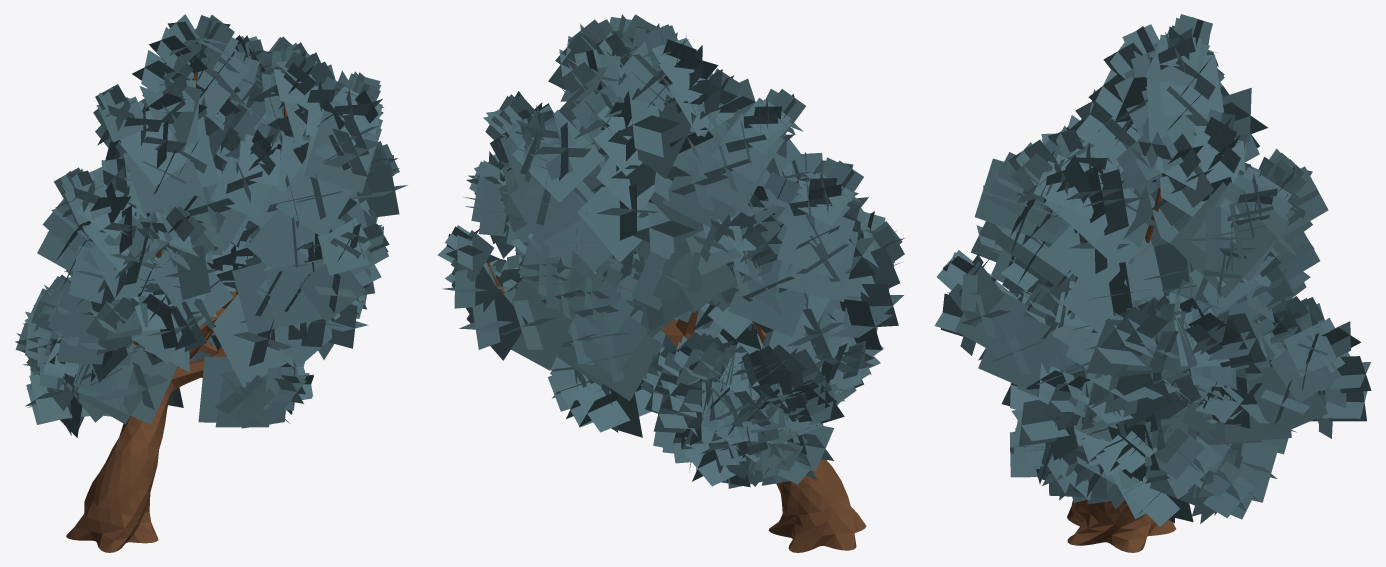
The model's file is quaternius-nature__TwistedTree_1__cave.fbx.
3 views of the same model, side by side, from view 1: azimuth 30°, elevation 25°; view 2: azimuth 150°, elevation 25°; view 3: azimuth 270°, elevation 25° (orthographic). The views are drawn at different scales.
Parts seen in each view (by area): view 1: quaternius-nature__TwistedTree_1__cave_leaf, quaternius-nature__TwistedTree_1__cave_trunk_wood; view 2: quaternius-nature__TwistedTree_1__cave_leaf, quaternius-nature__TwistedTree_1__cave_trunk_wood; view 3: quaternius-nature__TwistedTree_1__cave_leaf, quaternius-nature__TwistedTree_1__cave_trunk_wood.
Boxes of the visible parts, box(x1,y1,x2,y2) form: quaternius-nature__TwistedTree_1__cave_leaf: box(14, 14, 407, 437); quaternius-nature__TwistedTree_1__cave_trunk_wood: box(66, 72, 287, 552); quaternius-nature__TwistedTree_1__cave_leaf: box(437, 14, 904, 488); quaternius-nature__TwistedTree_1__cave_trunk_wood: box(487, 263, 866, 552); quaternius-nature__TwistedTree_1__cave_leaf: box(934, 14, 1371, 526); quaternius-nature__TwistedTree_1__cave_trunk_wood: box(1067, 188, 1175, 552).
Bounding box in the file's own units: 48.27 × 59.73 × 41.25.
2 materials, 2 textured.
